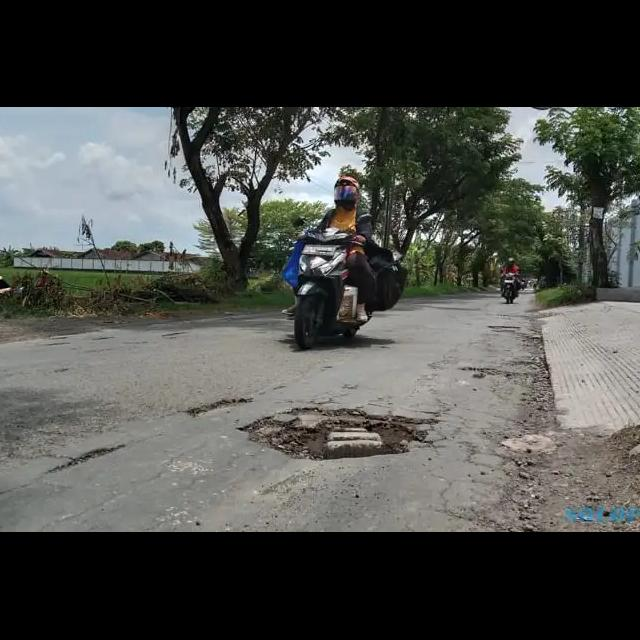lubang_kecil: (241, 394, 423, 467), (44, 432, 149, 479), (187, 384, 252, 423), (453, 360, 517, 382), (471, 317, 529, 338)
